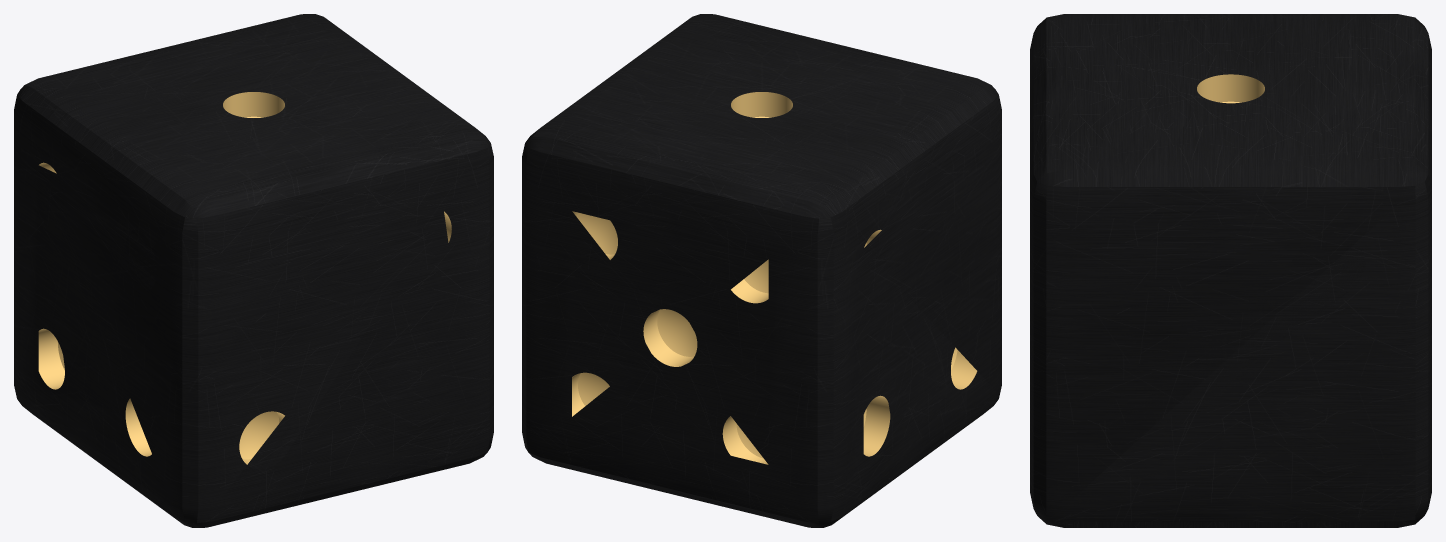
Rendered from Dice_BlackGold.fbx.
3 renders of one model, left to right at view 1: azimuth 30°, elevation 25°; view 2: azimuth 150°, elevation 25°; view 3: azimuth 270°, elevation 25°, orthographic. The views are drawn at different scales.
Parts seen in each view (by area): view 1: Die_BlackGold; view 2: Die_BlackGold; view 3: Die_BlackGold.
Part boxes in pixels (x1,y1,x2,y2): Die_BlackGold: (14,14,493,527); Die_BlackGold: (522,14,1001,527); Die_BlackGold: (1030,14,1431,527).
Size of the model in its own units: 0.02 by 0.02 by 0.02.
2 materials, 1 textured.
